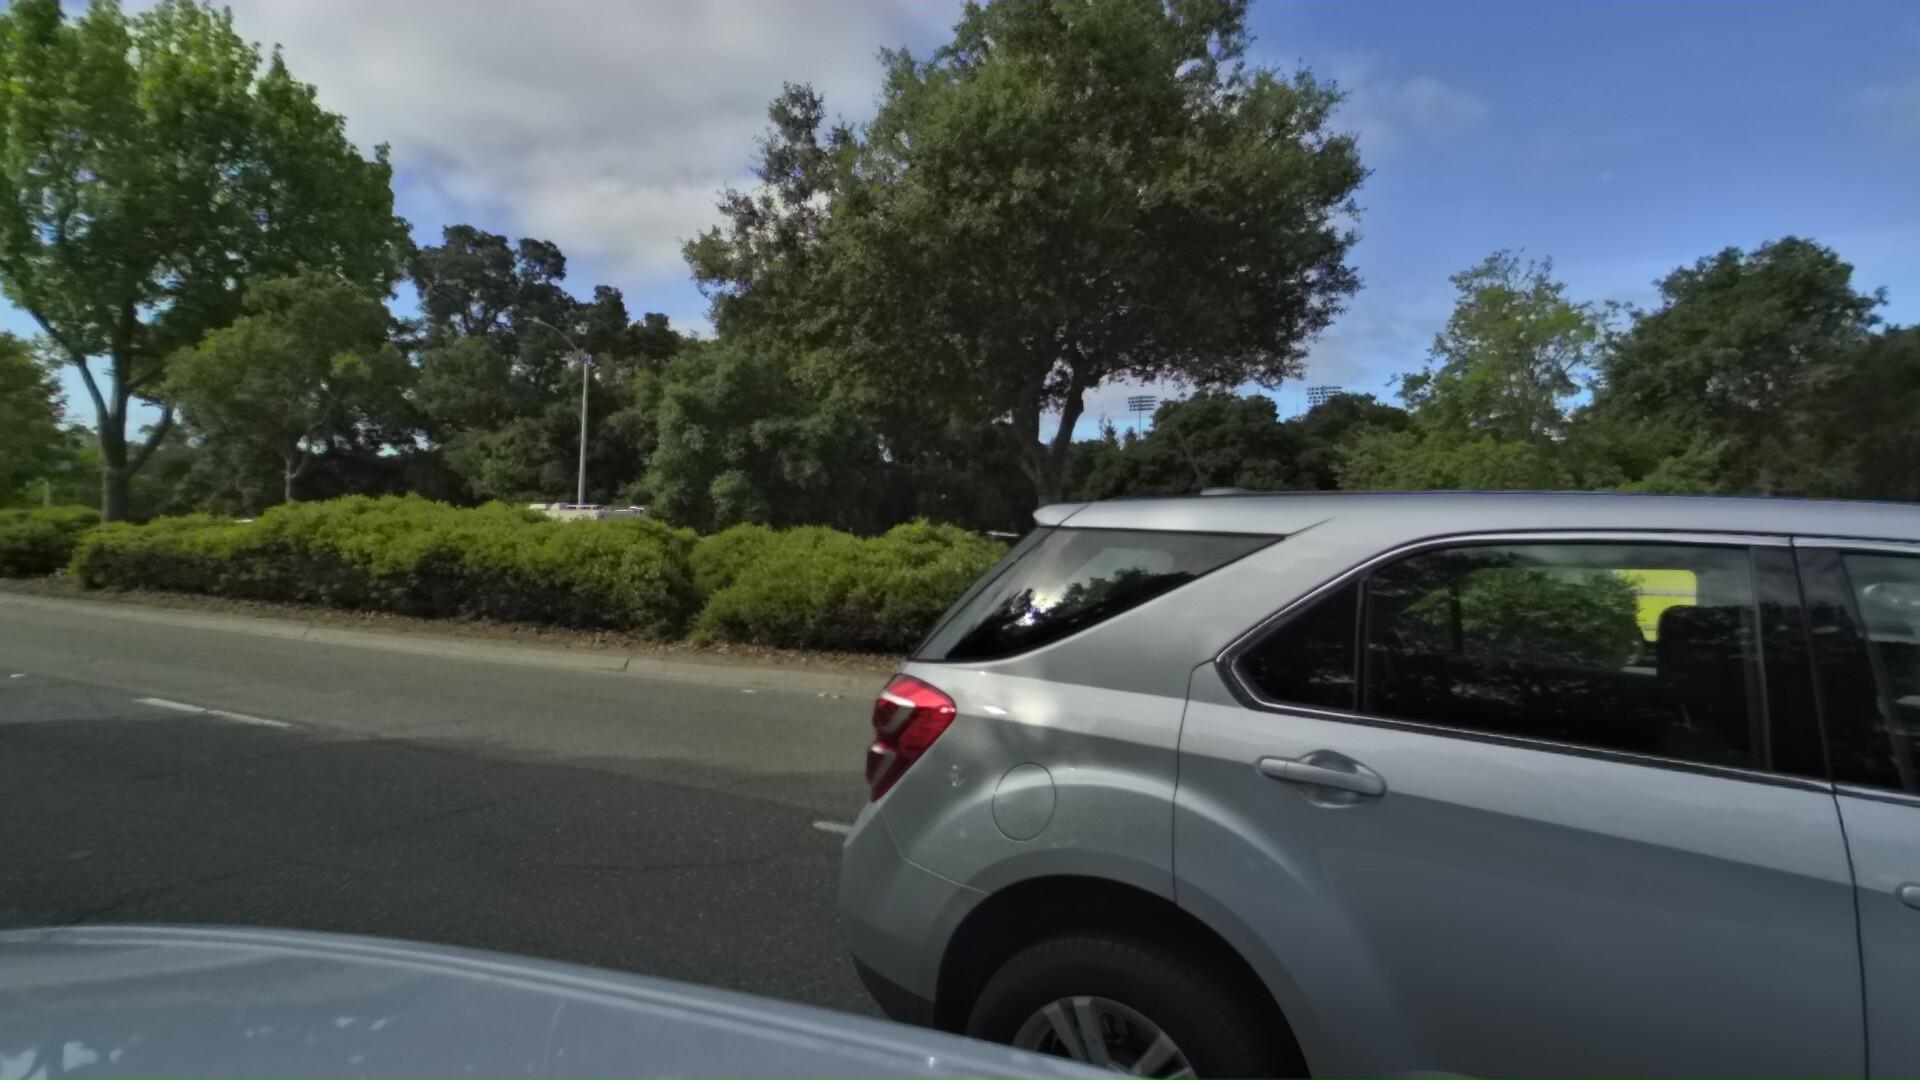car: (752, 0, 1920, 1080), (1753, 564, 1920, 717)
other_vehicle: (422, 496, 655, 599)
truck: (1333, 506, 1756, 673), (1882, 497, 1920, 729)
